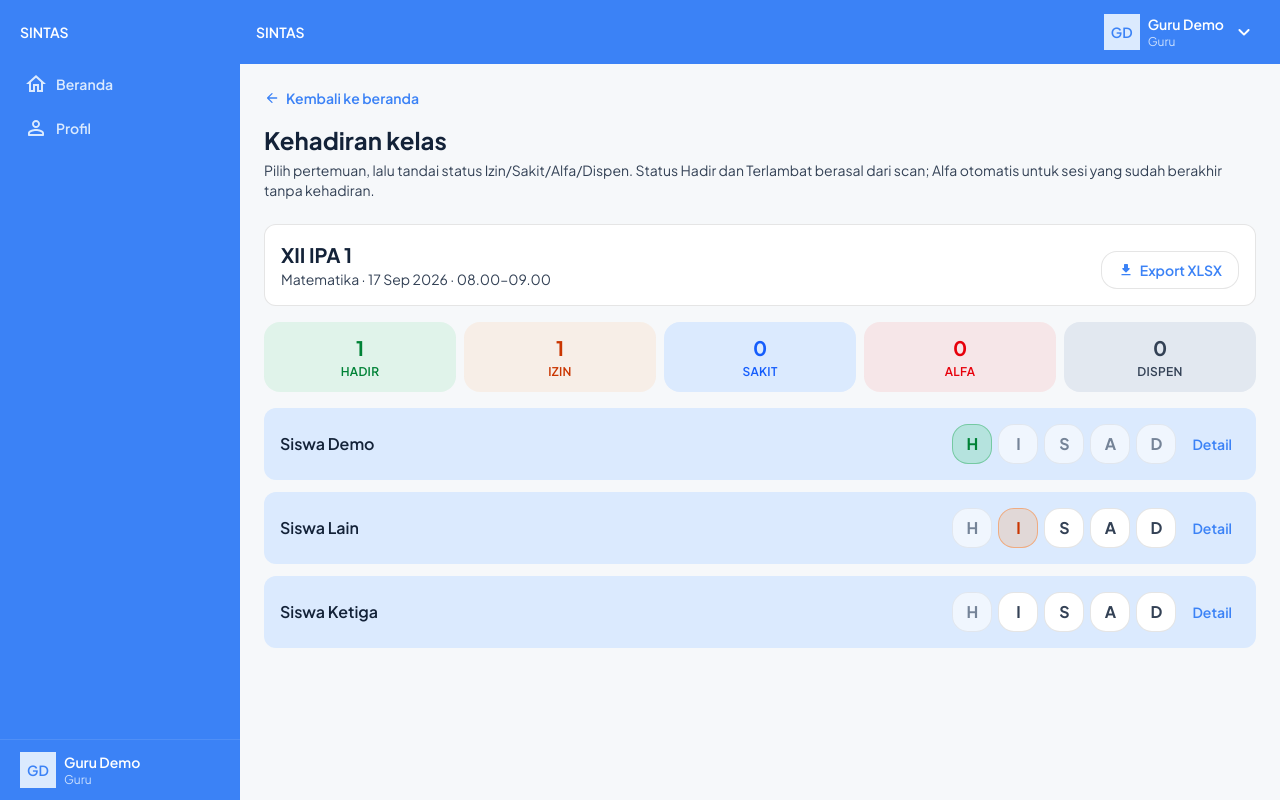
Scenario: halaman kehadiran kelas guru › membuka dialog detail scan saat tombol Detail diklik
Expected: the text "Siswa Demo" is shown, left=280, top=433, right=374, bottom=454
Click the button "Detail" in the row of "Siswa Demo".
click(1212, 444)  # box left=1184, top=430, right=1240, bottom=458
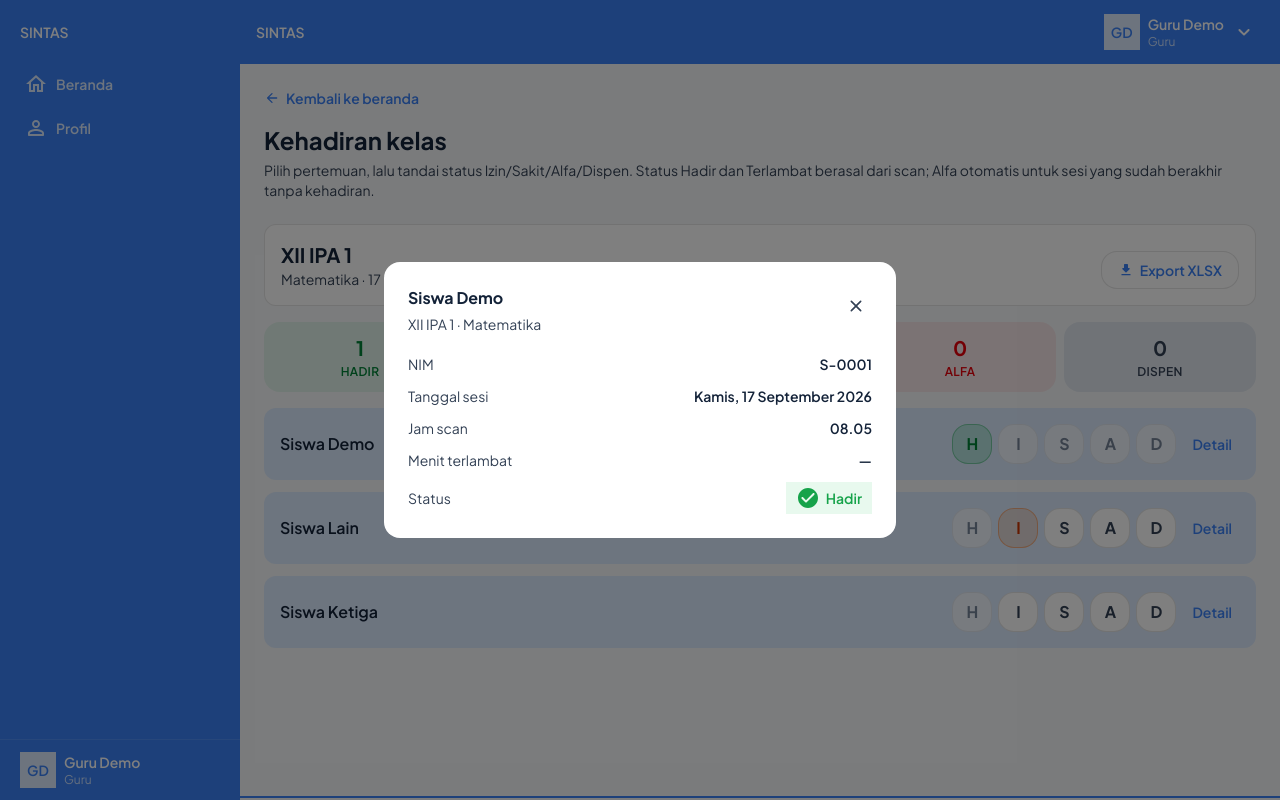
Expected: the text "Tanggal sesi" is shown, left=408, top=386, right=489, bottom=406
Expected: the text "Jam scan" is shown, left=408, top=418, right=468, bottom=438
